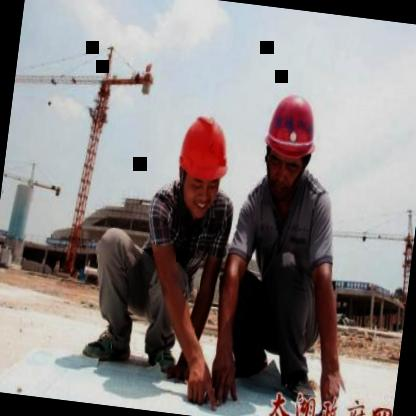helmet: (252, 78, 326, 206), (167, 103, 238, 224)
